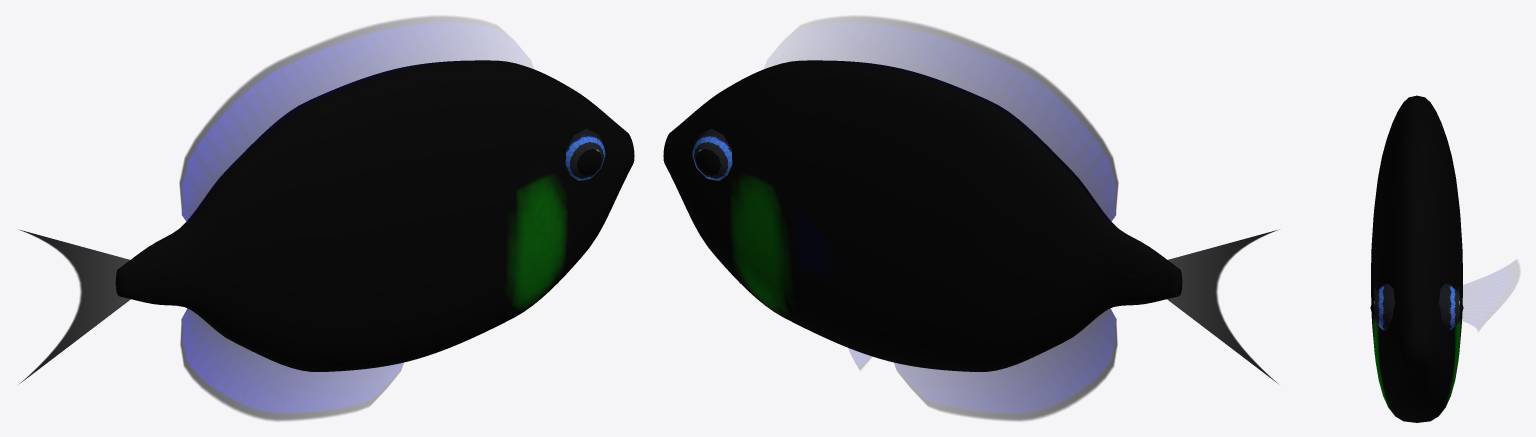
File: tang.glb
The picture shows the model from 3 angles, left to right: view 1: azimuth 30°, elevation 25°; view 2: azimuth 150°, elevation 25°; view 3: azimuth 270°, elevation 25°; orthographic projection. The views are drawn at different scales.
Visible parts, largest first — view 1: Body, FinDorsal, FinAnal, FinCaudal, EyeR; view 2: Body, FinDorsal, FinAnal, FinCaudal, FinPectoralL, EyeL; view 3: Body, FinPectoralL, EyeL, EyeR.
Boxes of the visible parts, x1,y1,x2,y2 form: Body: (116,60,634,371); FinDorsal: (179,16,525,222); FinAnal: (180,308,403,420); FinCaudal: (19,229,131,383); EyeR: (565,128,605,180); Body: (663,60,1181,371); FinDorsal: (772,16,1118,222); FinAnal: (894,308,1117,420); FinCaudal: (1166,229,1278,383); FinPectoralL: (794,205,840,280); EyeL: (692,128,732,180); Body: (1371,95,1462,422); FinPectoralL: (1461,260,1519,331); EyeL: (1438,283,1463,330); EyeR: (1370,283,1394,330).
Bounding box in the file's own units: 1 × 0.5962 × 0.3206.
4 materials, 3 textured.
